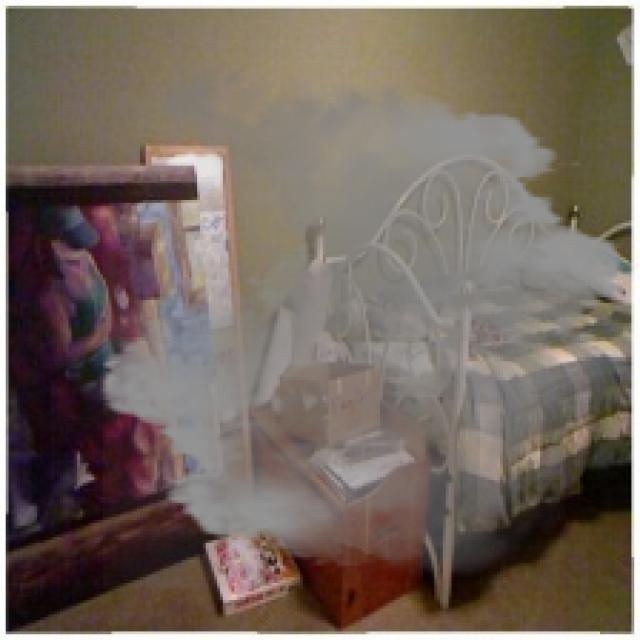smoke: (83, 49, 637, 592)
